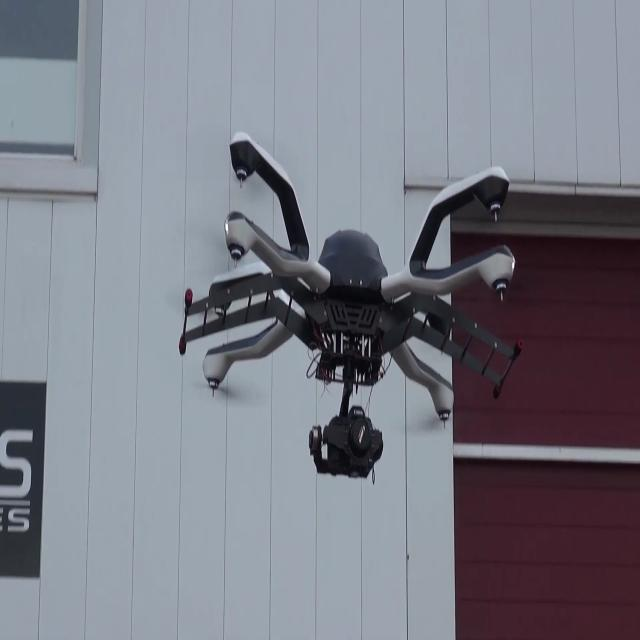drone: (180, 128, 520, 474)
